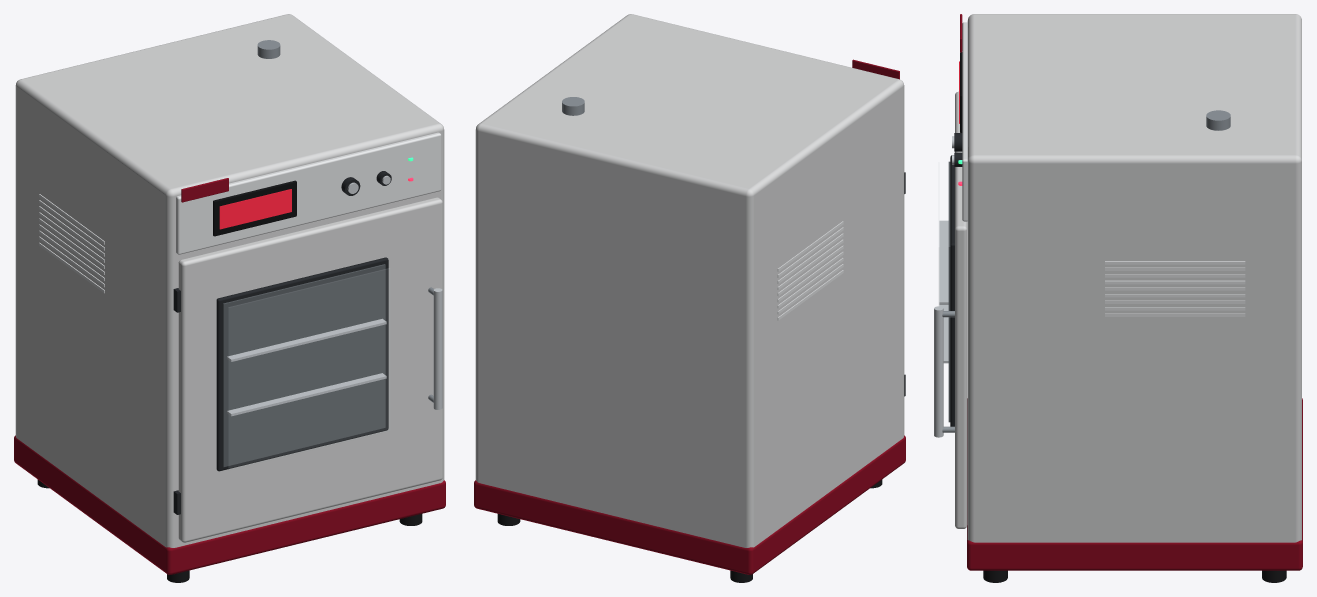
The model's file is nci-100.glb.
3 views of the same model, side by side, from view 1: azimuth 30°, elevation 25°; view 2: azimuth 150°, elevation 25°; view 3: azimuth 270°, elevation 25° (orthographic). The views are drawn at different scales.
Bounding box in the file's own units: 0.6236 × 0.875 × 0.662.
